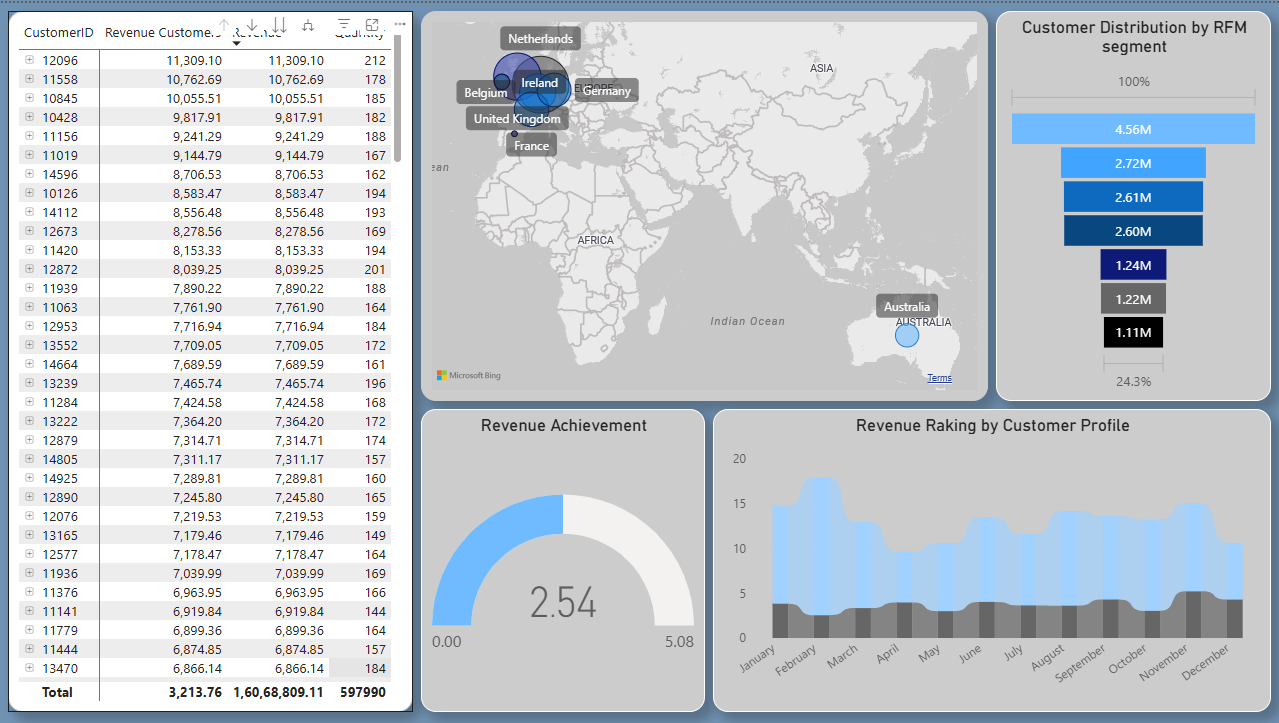

This screenshot's page, from the dashboard's own definition file:
{"tool":"powerbi","page":{"name":"Customers Insights  and Geographic Analysis","canvas":[1280,720],"ordinal":2},"visuals":[{"type":"pivotTable","fields":{"Values":["cleaned_transactions (2).Revenue per Customers","Sum(cleaned_transactions (2).Revenue)","Sum(cleaned_transactions (2).Quantity)"],"Rows":["cleaned_transactions (2).CustomerID","cleaned_transactions (2).Country"]},"box":[8,8,405,701],"z":0},{"type":"map","fields":{"Category":["cleaned_transactions (2).Country"],"Size":["Max(cleaned_transactions (2).Revenue)"]},"box":[421,8,567,390],"z":1000},{"type":"gauge","title":"Revenue Achievement","fields":{"Y":["Min(cleaned_transactions (2).Revenue)"]},"box":[421,406,284,303],"z":2000},{"type":"funnel","title":"Customer Distribution by RFM segment","fields":{"Category":["customer_segments.RFM_Segment"],"Y":["cleaned_transactions (2).Total Revenue"]},"box":[996,8,275,390],"z":3000},{"type":"ribbonChart","title":"Revenue Raking by Customer Profile","fields":{"Y":["Min(cleaned_transactions (2).Revenue)"],"Category":["cleaned_transactions (2).InvoiceDate.Variation.Date Hierarchy.Month"],"Series":["customer_segments.ClusterProfile"]},"box":[713,406,558,303],"z":4000}]}

Visuals, with their boxes in screenshot pixels (x1, y1, x2, y2), scaled from the page's 1280x720 canvas onto the 1279x723 screenshot:
pivotTable - cleaned_transactions (2).Revenue per Customers x Sum(cleaned_transactions (2).Revenue): [x1=8, y1=8, x2=413, y2=712]
map - cleaned_transactions (2).Country x Max(cleaned_transactions (2).Revenue): [x1=421, y1=8, x2=987, y2=400]
"Revenue Achievement" gauge: [x1=421, y1=408, x2=704, y2=712]
"Customer Distribution by RFM segment" funnel: [x1=995, y1=8, x2=1270, y2=400]
"Revenue Raking by Customer Profile" ribbonChart: [x1=712, y1=408, x2=1270, y2=712]
